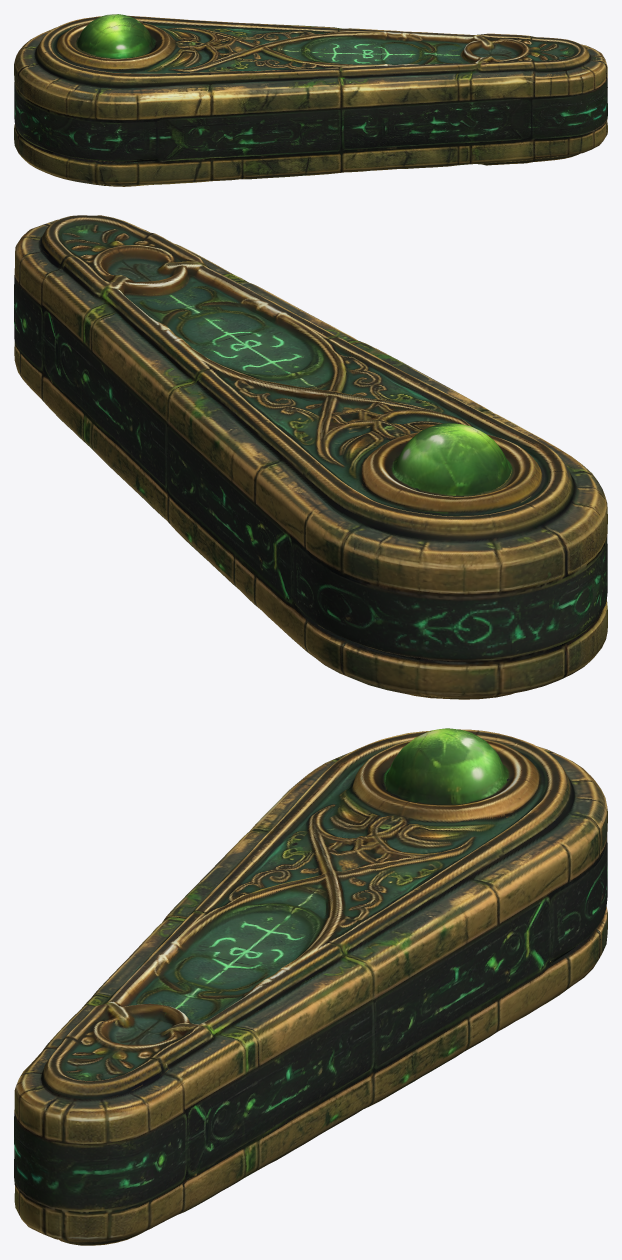
The model's file is Left_flipper_lvl_2.glb.
3 views of the same model, one above another, from view 1: azimuth 30°, elevation 25°; view 2: azimuth 150°, elevation 25°; view 3: azimuth 270°, elevation 25° (orthographic). The views are drawn at different scales.
Visible parts, largest first — view 1: Mesh0; view 2: Mesh0; view 3: Mesh0.
Part boxes in pixels (x1,y1,x2,y2): Mesh0: (14,14,607,186); Mesh0: (14,215,607,699); Mesh0: (14,728,607,1245).
Bounding box in the file's own units: 1.92 × 0.6187 × 1.28.
1 material, 1 textured.
